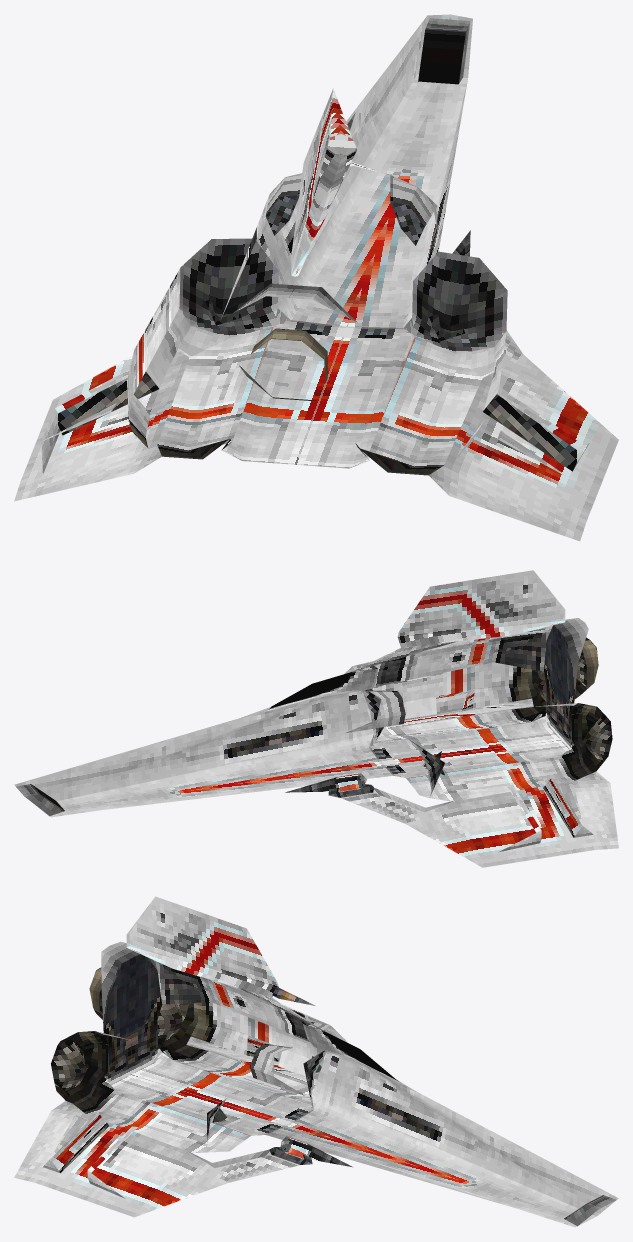
Rendered from ps2_save-icons_battlestargalactica.glb.
3 renders of one model, top to bottom at view 1: azimuth 30°, elevation 25°; view 2: azimuth 150°, elevation 25°; view 3: azimuth 270°, elevation 25°, orthographic. The views are drawn at different scales.
Parts seen in each view (by area): view 1: BSGList.ico; view 2: BSGList.ico; view 3: BSGList.ico.
Part boxes in pixels (x1,y1,x2,y2): BSGList.ico: (14,14,618,541); BSGList.ico: (14,570,618,867); BSGList.ico: (14,896,618,1227).
Size of the model in its own units: 3.2 by 1.46 by 3.53.
Materials: 1 (1 with a texture image).
